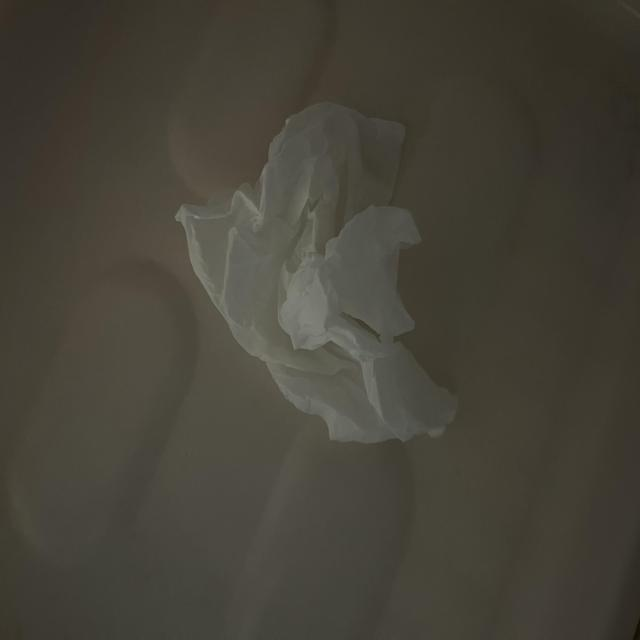Paper: (184, 96, 430, 459)
